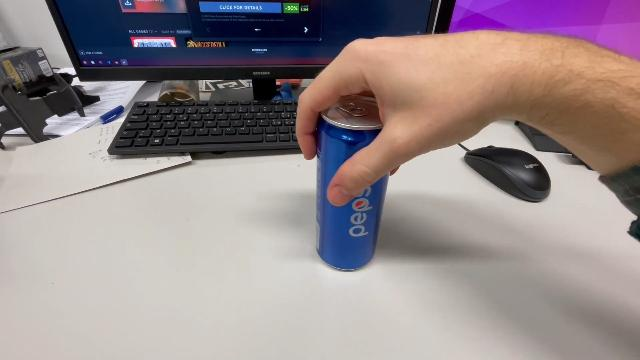Pepsi: (311, 89, 395, 273)
